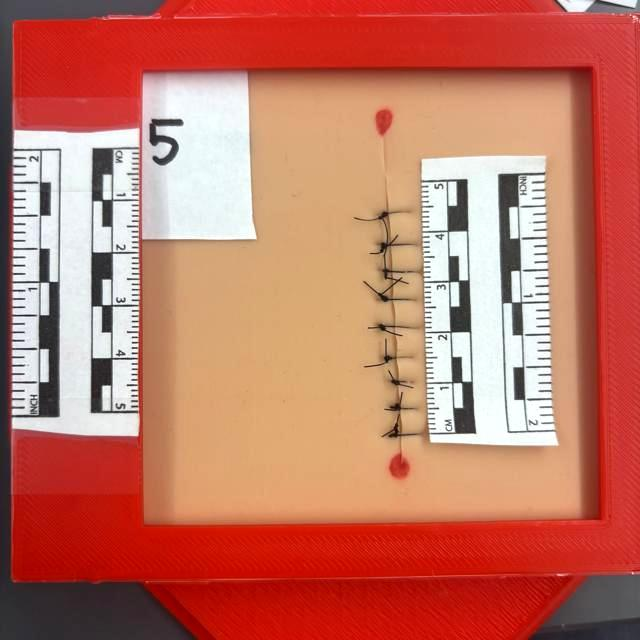incision_line: (378, 122, 406, 461)
scale_marker: (427, 384, 455, 432)
suture_d: (391, 410, 404, 434), (388, 326, 398, 357), (386, 300, 397, 327), (386, 272, 396, 300), (391, 382, 401, 408), (385, 244, 394, 272), (385, 214, 392, 244), (389, 359, 399, 379)
suture_l: (380, 323, 395, 330), (384, 354, 397, 362), (385, 406, 400, 412), (388, 432, 401, 438), (388, 378, 398, 384), (385, 267, 392, 275), (379, 213, 388, 219), (380, 242, 390, 247), (385, 296, 393, 302)
suture_r: (391, 242, 417, 248), (394, 324, 419, 330), (391, 298, 418, 303), (392, 270, 419, 274), (399, 355, 416, 361), (399, 378, 416, 384), (388, 211, 412, 215), (401, 433, 418, 437), (399, 408, 419, 411)
